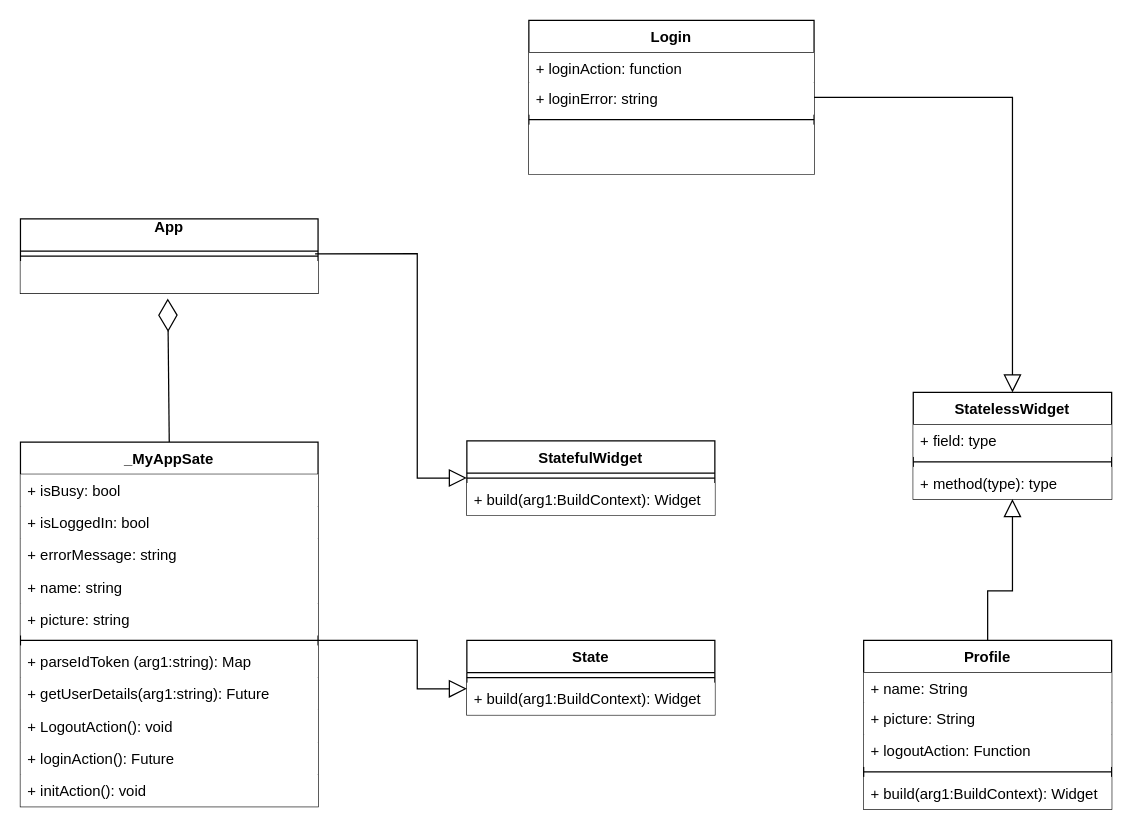
This 1132x830 diagram has some shape labels left out. The shapes that lost their labels are listed below. From the top down, each one's centre as x and y in pixels, then its label:
At (670,149): "+ build(arg1: BuldContext): Widget".
At (168,276): "+ getAppState(type): _MyAppState".
